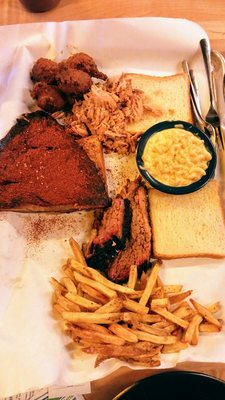sushi: (135, 120, 218, 195)
